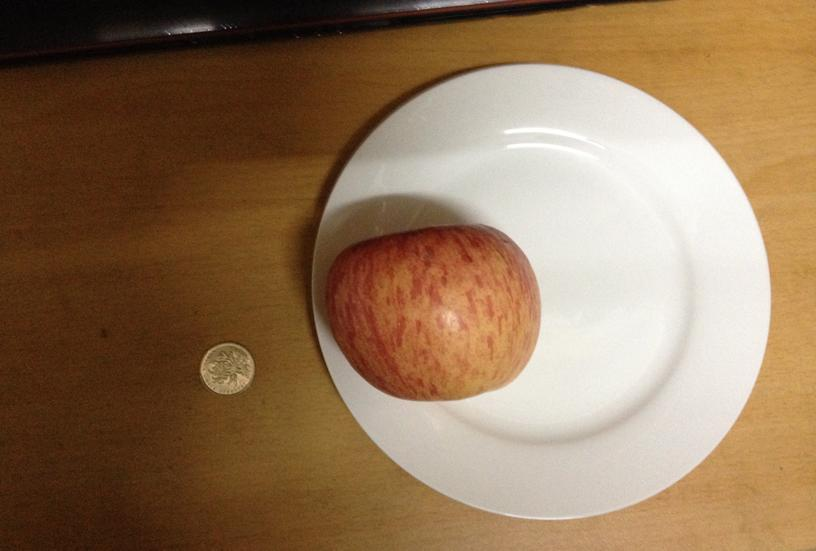apple: (326, 229, 540, 401)
coin: (196, 344, 255, 395)
